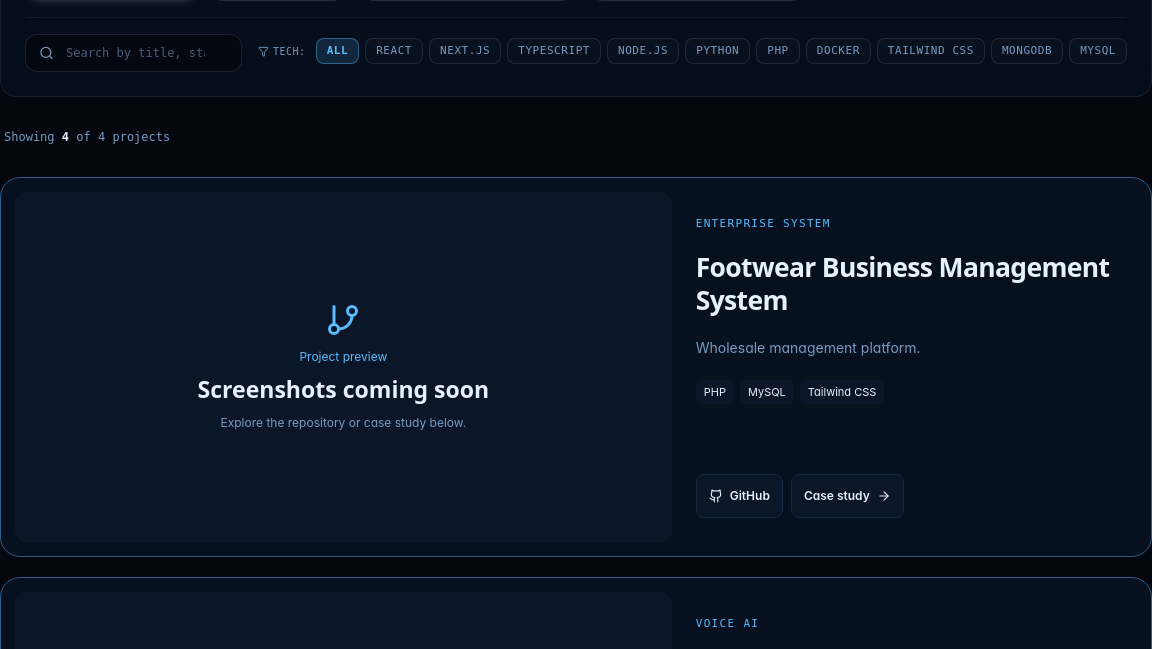
Test case: ProjectsCatalogueView Component › displays empty state and allows resetting filters when query matches nothing
Type "nonexistentquery123" into the field with placeholder "Search by title, stack, or keywords..." at (134, 53), box top-left (25, 34), bottom-right (242, 72)
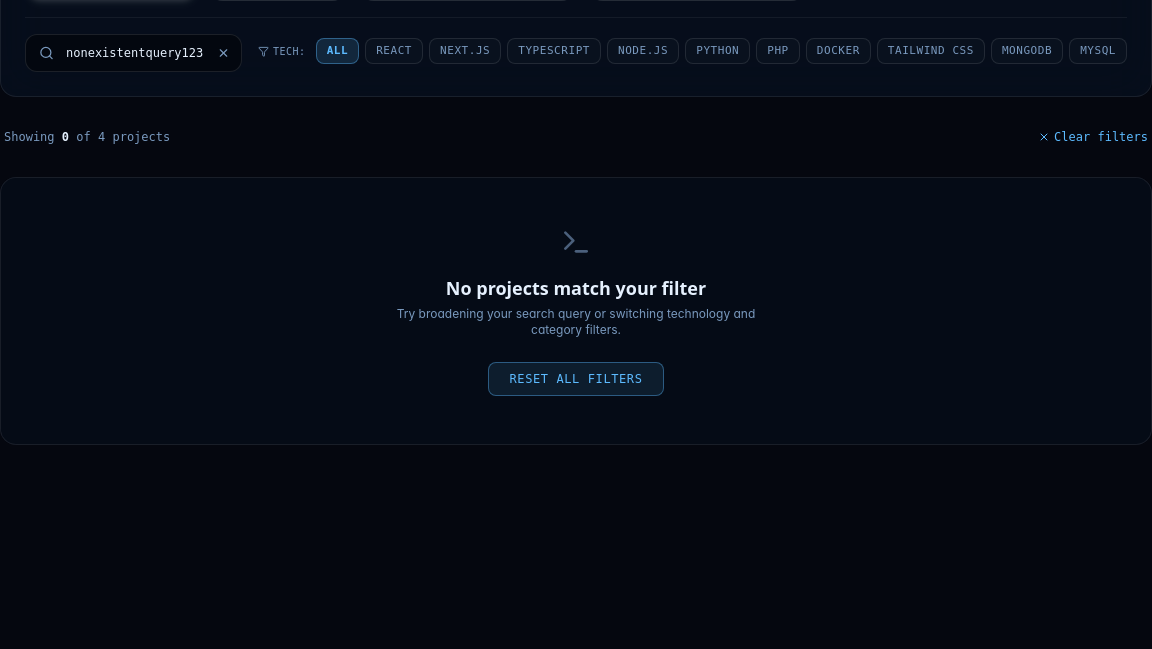
Expected: the heading "No projects match your filter" is shown, top-left (446, 276), bottom-right (706, 300)
Click the button "Reset All Filters" at (576, 379), box top-left (488, 362), bottom-right (664, 396)
(page scrolled)
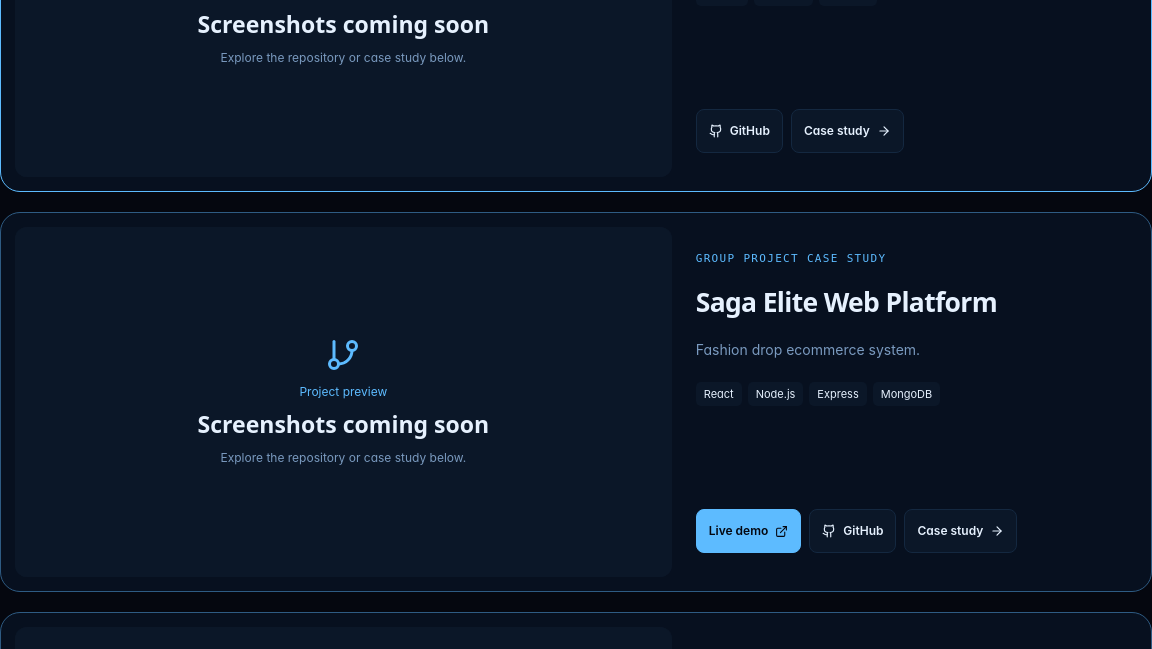
Expected: the heading "Saga Elite Web Platform" is shown, top-left (696, 286), bottom-right (997, 319)
